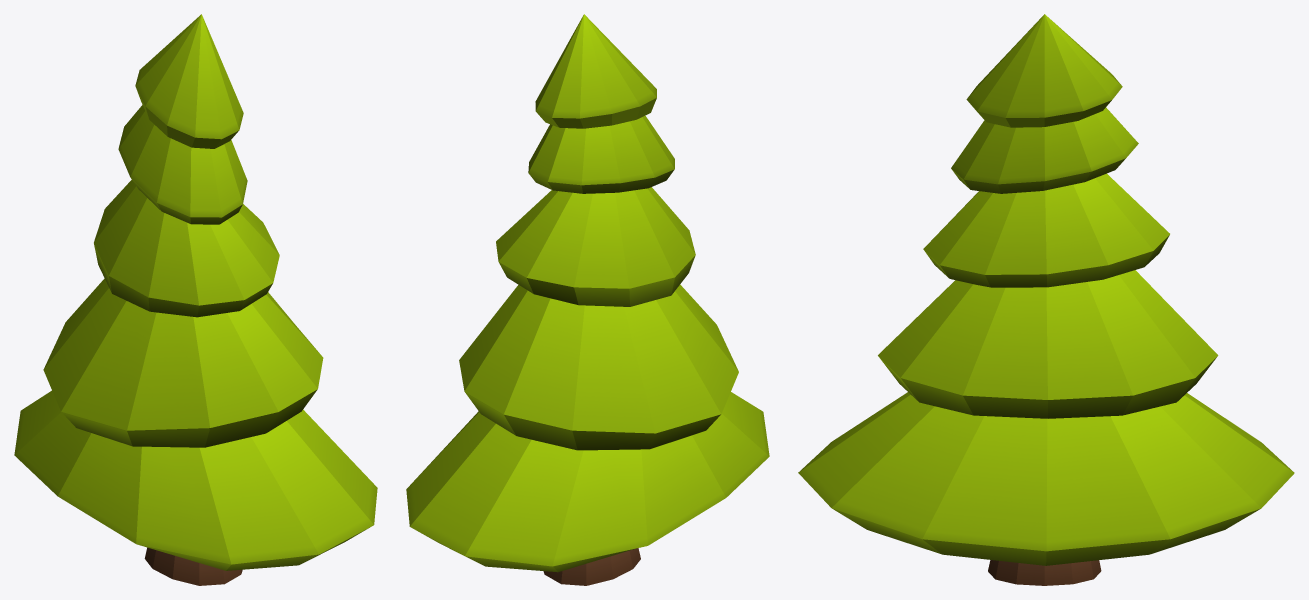
Rendered from Tree4.fbx.
3 views of the same model, side by side, from view 1: azimuth 30°, elevation 25°; view 2: azimuth 150°, elevation 25°; view 3: azimuth 270°, elevation 25° (orthographic). The views are drawn at different scales.
Visible parts, largest first — view 1: Cube.044; view 2: Cube.044; view 3: Cube.044.
Part boxes in pixels (x1,y1,x2,y2): Cube.044: (14, 14, 377, 585); Cube.044: (406, 14, 769, 585); Cube.044: (798, 14, 1294, 585).
Size of the model in its own units: 1098 by 2133 by 1715.
Materials: 1 (1 with a texture image).
